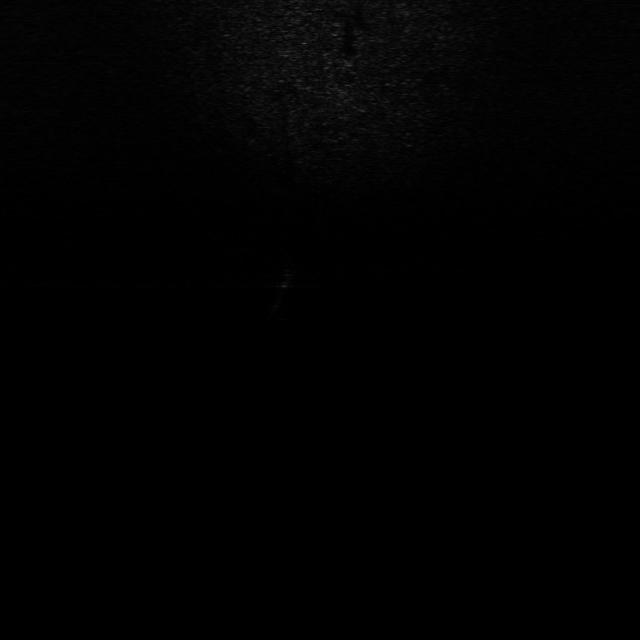human body: (267, 260, 307, 326)
